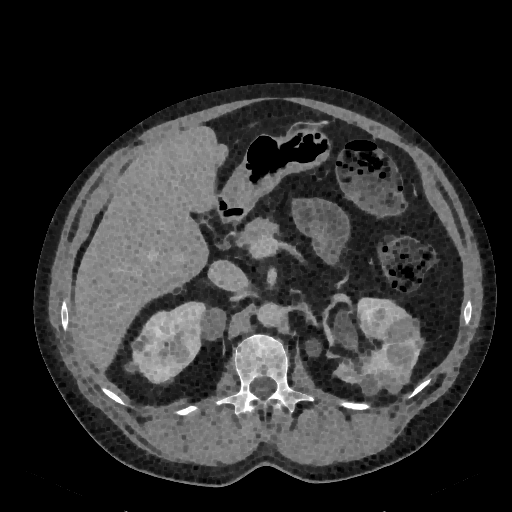Lesion: (384, 318, 425, 344)
